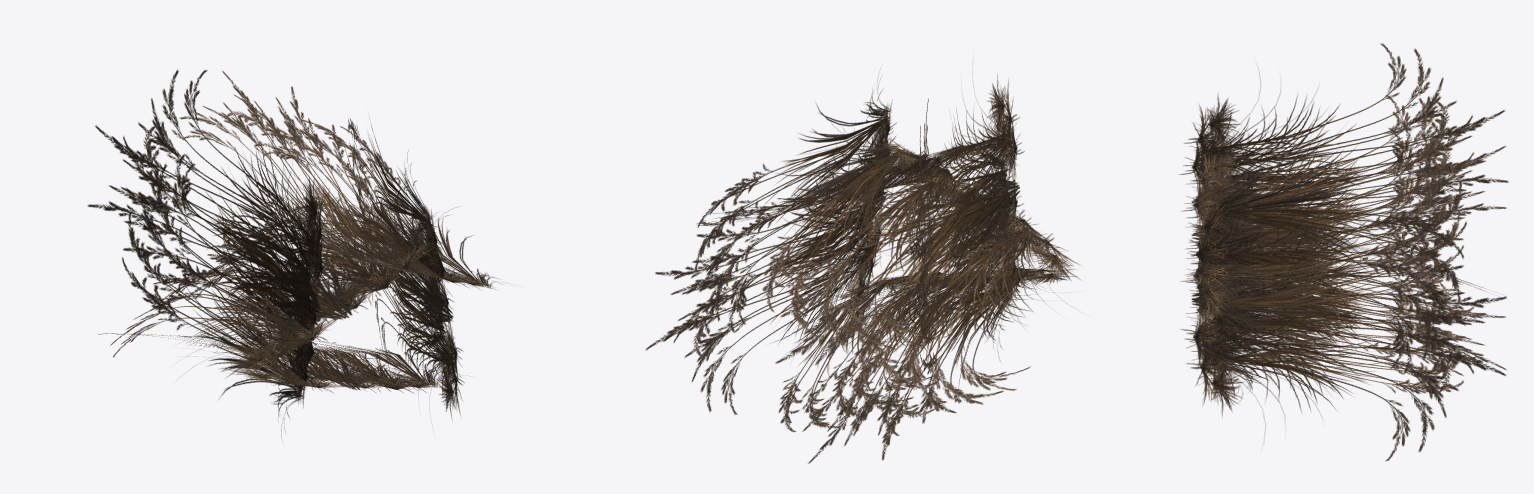
The model's file is grass_3.glb.
The picture shows the model from 3 angles, left to right: view 1: azimuth 30°, elevation 25°; view 2: azimuth 150°, elevation 25°; view 3: azimuth 270°, elevation 25°; orthographic projection. The views are drawn at different scales.
Parts seen in each view (by area): view 1: grass_3; view 2: grass_3; view 3: grass_3.
Boxes of the visible parts, bbox=[...] form: grass_3: bbox=[87, 69, 503, 436]; grass_3: bbox=[645, 74, 1081, 463]; grass_3: bbox=[1179, 43, 1508, 461].
Size of the model in its own units: 1.24 by 1.16 by 1.04.
Materials: 1 (1 with a texture image).
